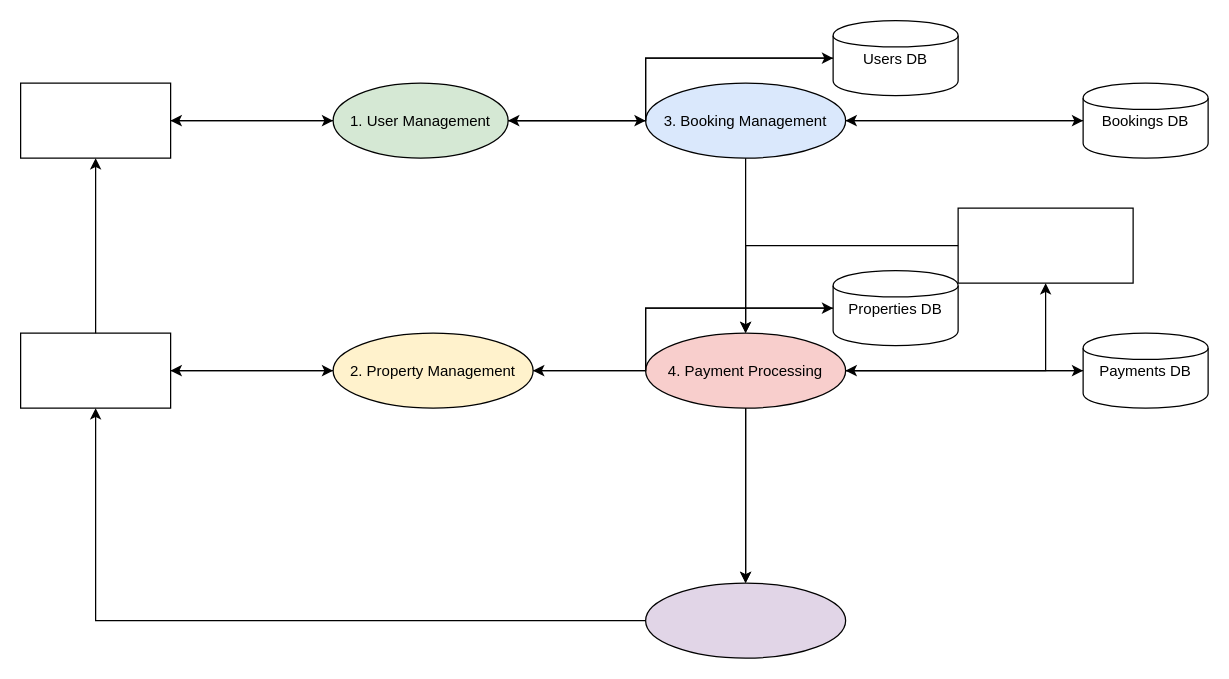
This 1229x679 diagram has some shape labels left out. Here are the shapes that lost their labels. From the top down, the centre of each, then its label:
At pixel 95 120: "User".
At pixel 1045 245: "Payment Gateway".
At pixel 95 370: "Property Owner".
At pixel 745 620: "5. Notification Service".
